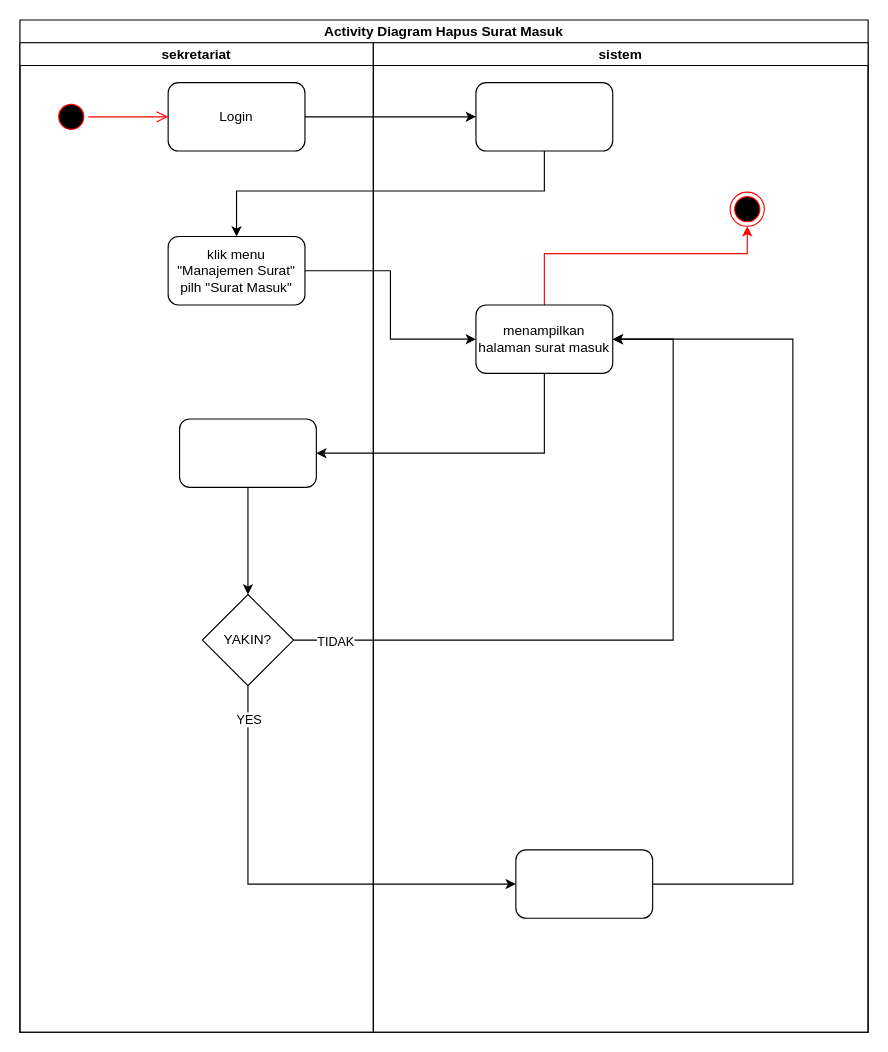
The diagram is 888 pixels wide and 1052 high, and some of its shapes have lost their labels. The shapes that lost their labels are listed below. From the top down, each one's centre as x and y in pixels, then its label:
[544,116]: menampilkan halaman home Dashboard
[247,452]: klik "hapus" pada data surat masuk di table daftar surat masuk
[584,883]: menghapus data yang dipilih dari database
